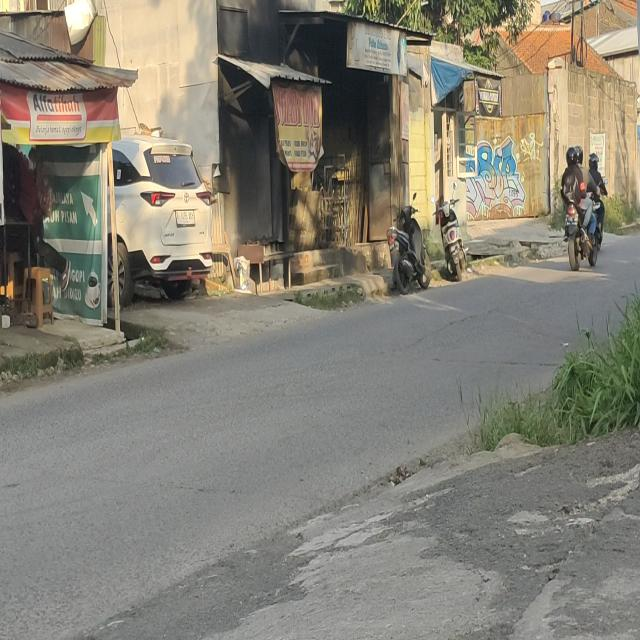helmet: (566, 148, 577, 164), (574, 146, 582, 165), (589, 152, 598, 168)
